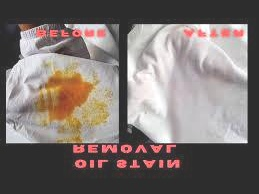oil: (30, 63, 108, 127), (58, 89, 113, 141)
